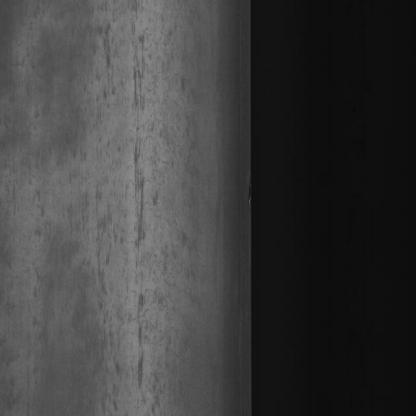silk_spot: (78, 165, 156, 289), (126, 293, 176, 415), (115, 19, 157, 134)
